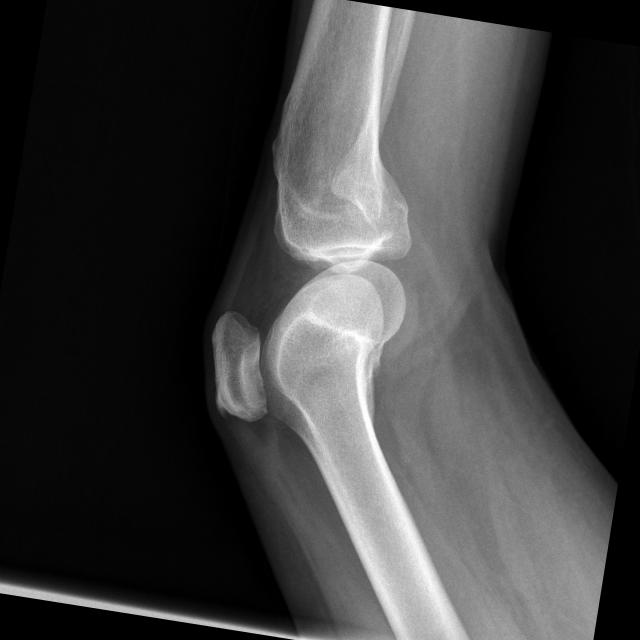Knee: (196, 166, 424, 450)
